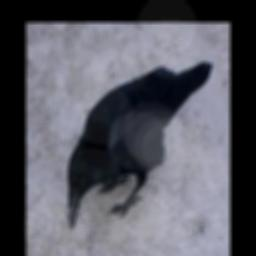Crow: (68, 60, 215, 228)
